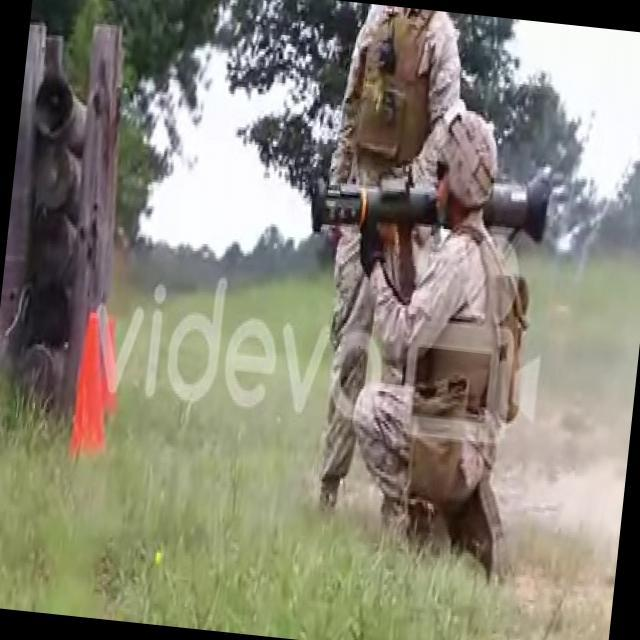rocket: (309, 146, 553, 264)
